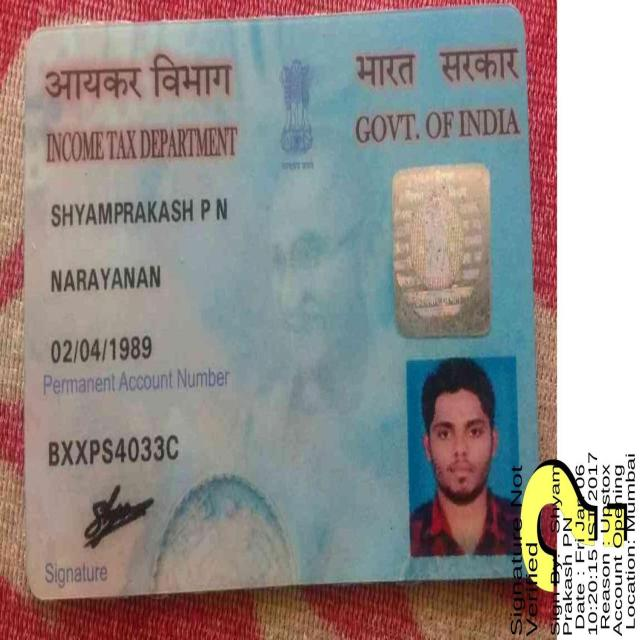pan_card: (29, 0, 539, 600)
